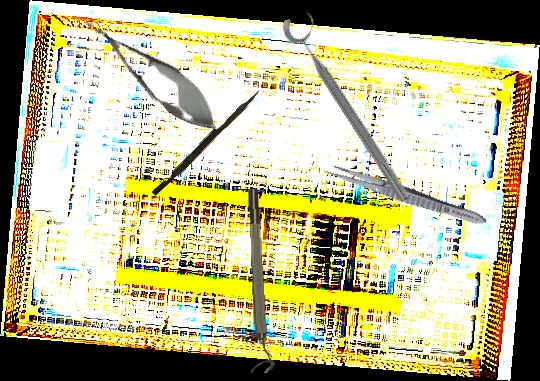Dressing Forceps: (321, 160, 490, 230)
Fixation Ring: (278, 5, 426, 207), (244, 188, 276, 374)
Micro Scissor: (73, 5, 230, 143)
Pusher: (151, 84, 262, 200)
